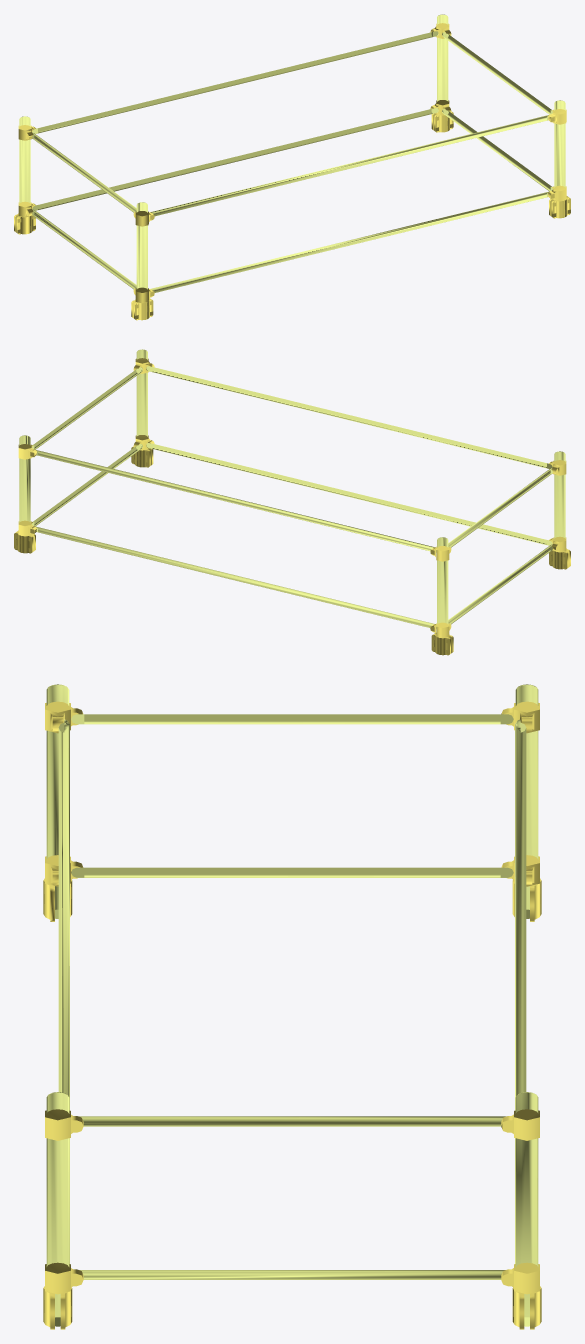
The model's file is construction_scaffold_top_04x02x01_a.glb.
3 renders of one model, top to bottom at view 1: azimuth 30°, elevation 25°; view 2: azimuth 150°, elevation 25°; view 3: azimuth 270°, elevation 25°, orthographic. The views are drawn at different scales.
Size of the model in its own units: 4.04 by 1 by 2.
